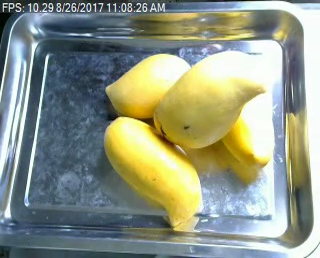Mango: (154, 48, 267, 150), (103, 115, 205, 228), (105, 52, 191, 121), (224, 90, 272, 174)
